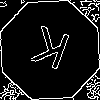K: (25, 25, 72, 80)
